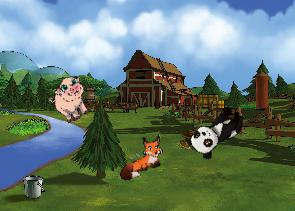fox: (110, 131, 171, 183)
panda: (184, 99, 249, 163)
pig: (44, 72, 98, 127)
